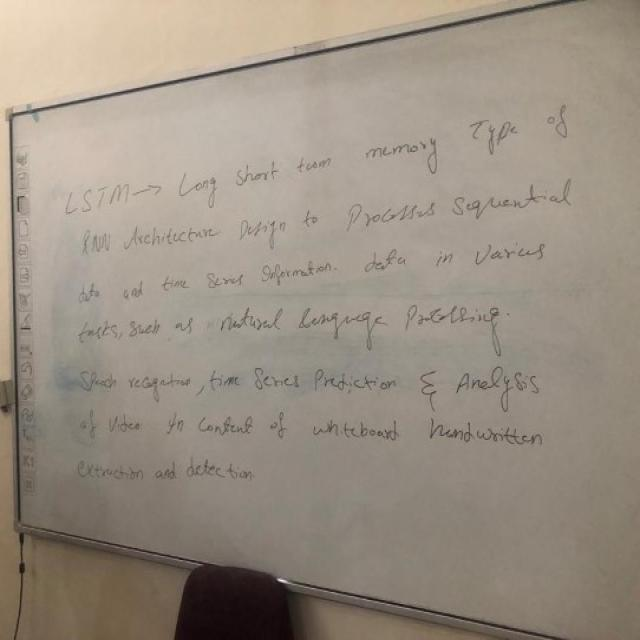White-board: (11, 0, 640, 640)
